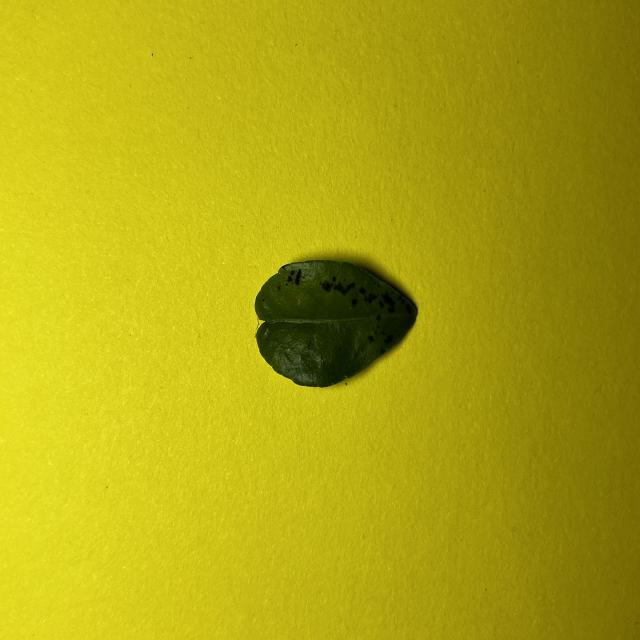sooty_mold: (255, 261, 417, 387)
